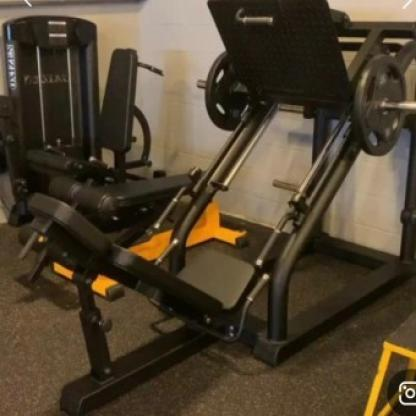leg press: (2, 0, 416, 416)
